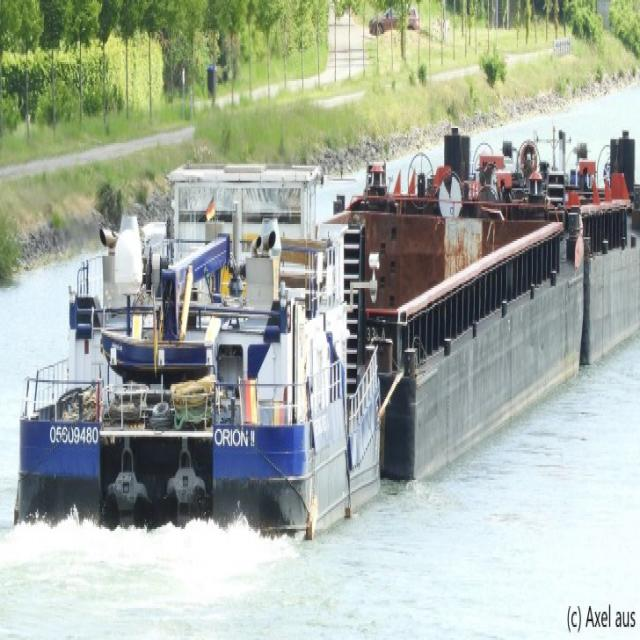tugboat: (10, 142, 390, 583)
